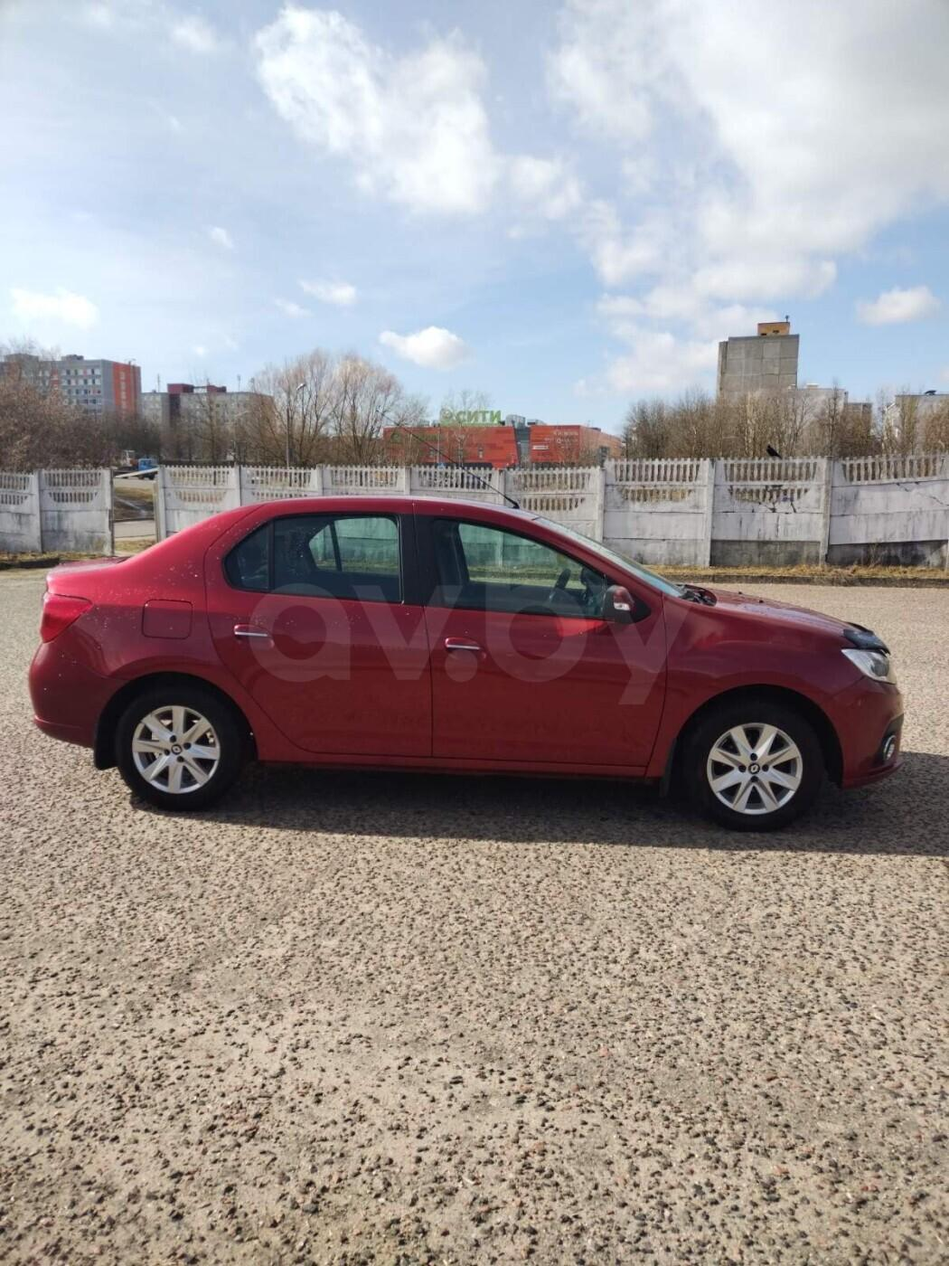Logan_2018: (25, 490, 911, 843)
